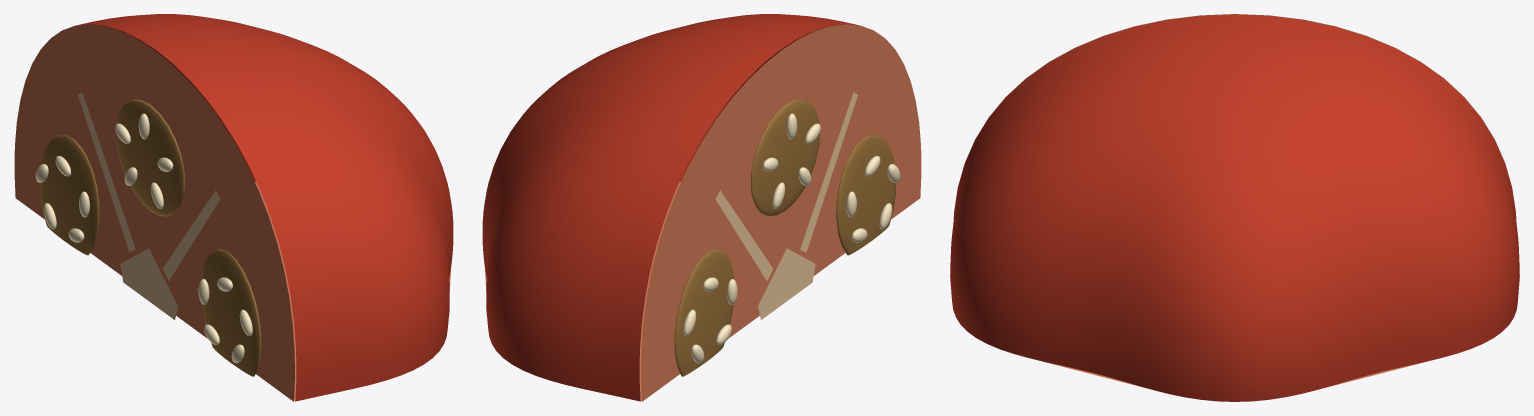
Rendered from better_boy_wedge.glb.
3 views of the same model, side by side, from view 1: azimuth 30°, elevation 25°; view 2: azimuth 150°, elevation 25°; view 3: azimuth 270°, elevation 25° (orthographic).
Parts seen in each view (by area): view 1: Prepared Better Boy half, Five-chamber Better Boy copper flesh, Five full Better Boy amber locules.001, Five full Better Boy amber locules, Better Boy pentagonal pale core, Individually modeled Better Boy cream seed; view 2: Prepared Better Boy half, Five-chamber Better Boy copper flesh, Five full Better Boy amber locules.001, Five full Better Boy amber locules, Better Boy pentagonal pale core, Individually modeled Better Boy cream seed; view 3: Prepared Better Boy half, Five-chamber Better Boy copper flesh.
Part boxes in pixels (x1,y1,x2,y2): Prepared Better Boy half: [76, 14, 453, 401]; Five-chamber Better Boy copper flesh: [14, 24, 294, 401]; Five full Better Boy amber locules.001: [40, 134, 261, 376]; Five full Better Boy amber locules: [116, 99, 184, 216]; Better Boy pentagonal pale core: [78, 92, 220, 319]; Individually modeled Better Boy cream seed: [35, 113, 252, 363]; Prepared Better Boy half: [482, 14, 859, 401]; Five-chamber Better Boy copper flesh: [641, 24, 921, 401]; Five full Better Boy amber locules.001: [674, 134, 895, 376]; Five full Better Boy amber locules: [751, 99, 819, 216]; Better Boy pentagonal pale core: [715, 92, 857, 319]; Individually modeled Better Boy cream seed: [683, 113, 900, 363]; Prepared Better Boy half: [950, 14, 1519, 401]; Five-chamber Better Boy copper flesh: [954, 14, 1515, 211].
Bounding box in the file's own units: 0.8454 × 0.68 × 1.4.
